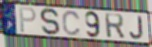9: (84, 10, 102, 39)
C: (62, 9, 82, 37)
J: (129, 15, 145, 40)
P: (18, 6, 37, 34)
R: (103, 13, 126, 40)
S: (39, 7, 61, 37)
